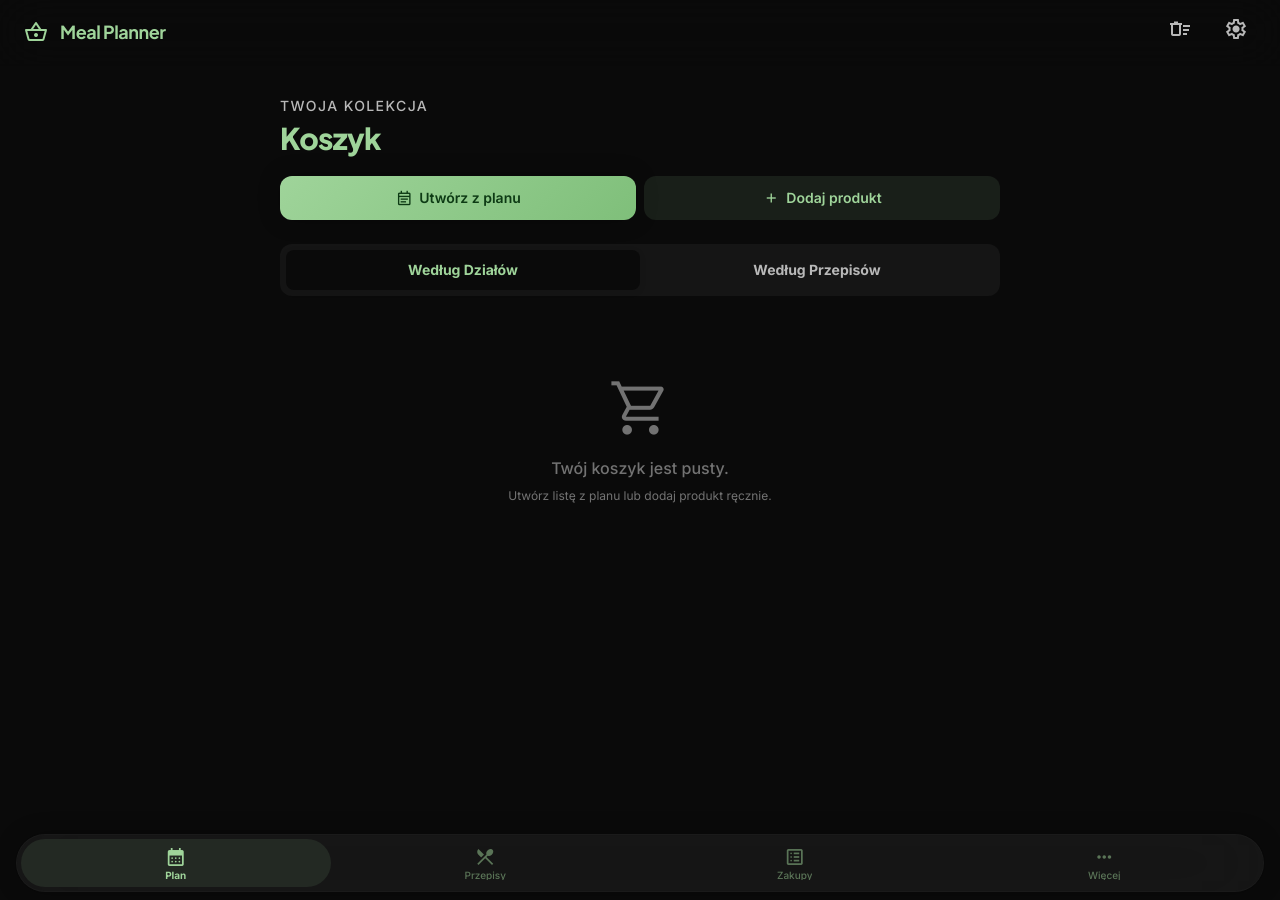
Test: ShoppingList create from plan › explains in the picker when the result is no-ingredients
The width and height of the screenshot is (1280, 900).
Click the button "Utwórz z planu" at (458, 198), box [280,176,636,220]
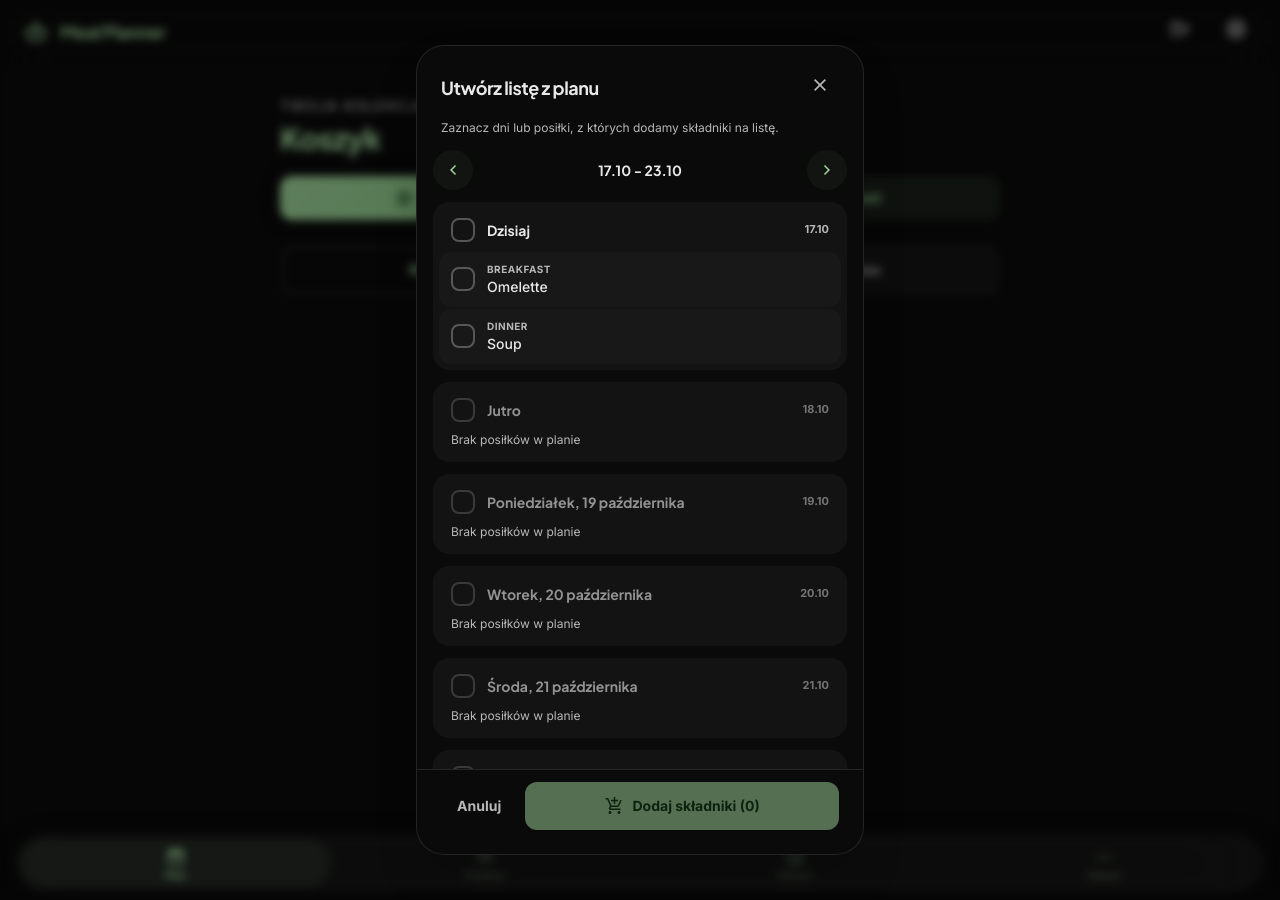
Click the checkbox labelled "Dzisiaj 17.10" at (508, 230), box [439,208,841,252]
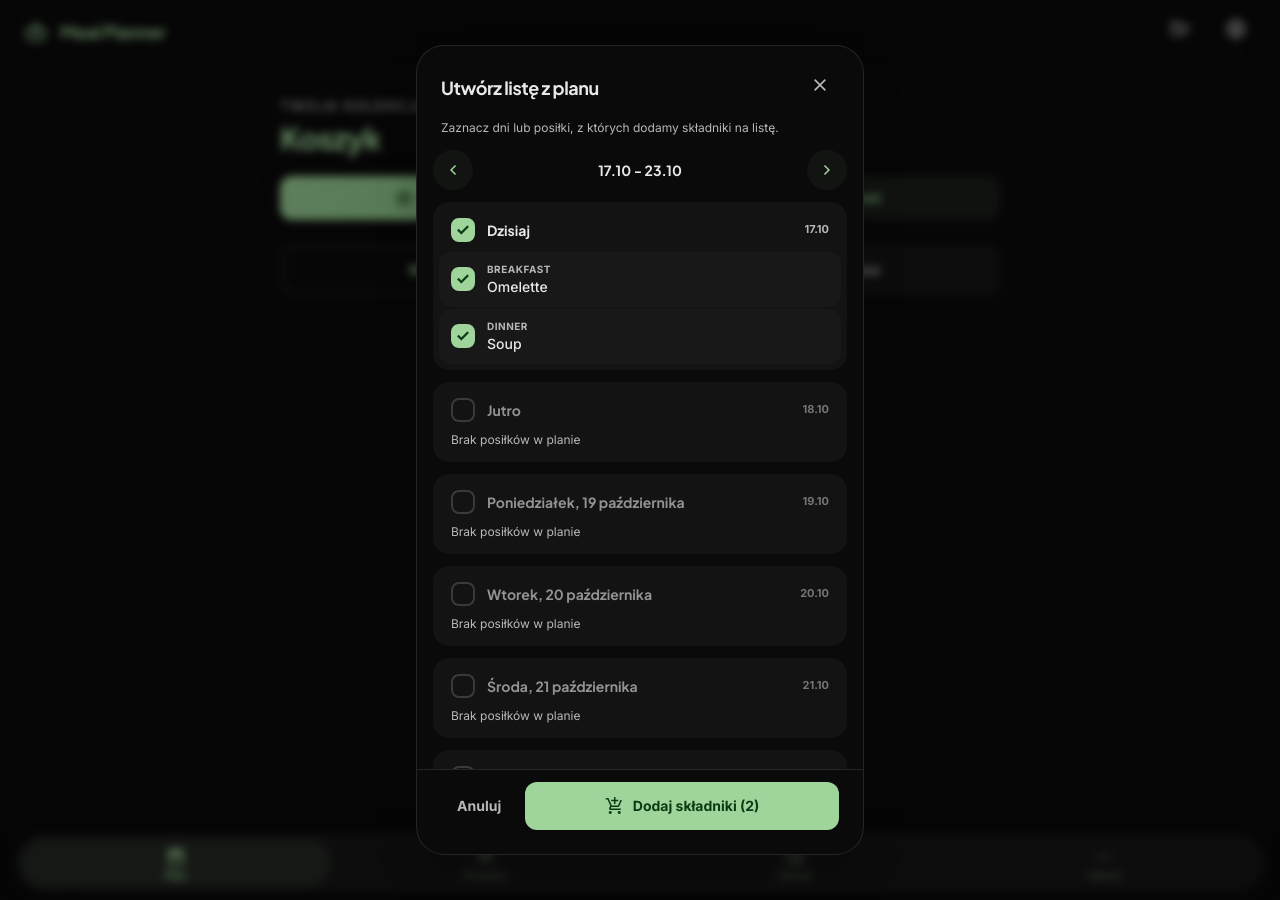
Click the button "Dodaj składniki (2)" at (682, 806), box [525,782,839,830]
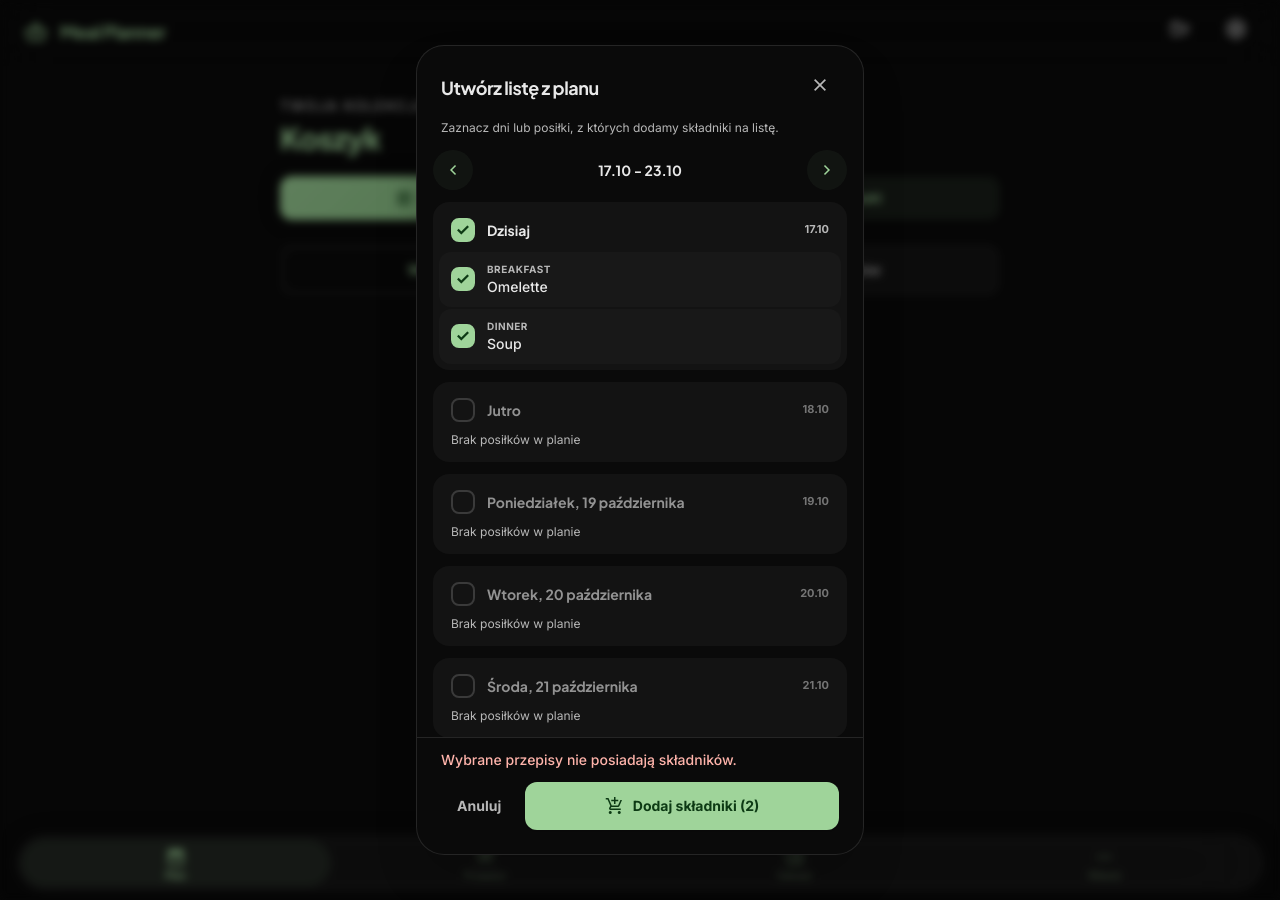
Expected: the dialog is shown, [416,45,864,855]
Expected: the text "Wybrane przepisy nie posiadają składników." is shown, [441,751,737,768]
